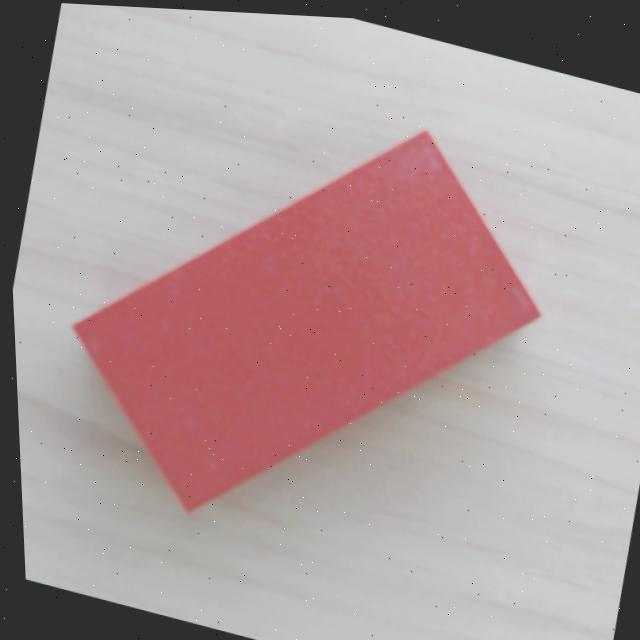Balok-Merah-1005025: (72, 124, 540, 517)
